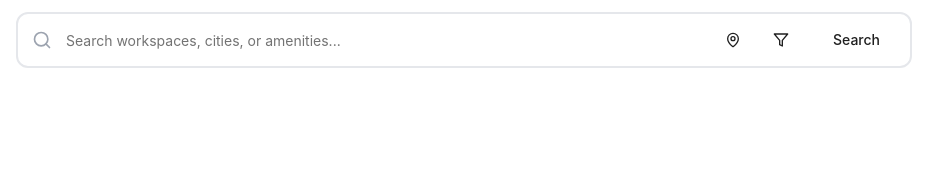
Test case: SearchBar Component › Suggestions › should handle suggestion click
Type "tech" into the field at (464, 40), box [16,12,912,68]
Wait 300 ms
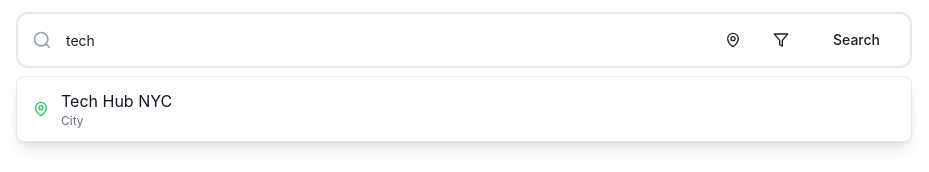
Now the text "Tech Hub NYC" is shown
Click the text "Tech Hub NYC" at (117, 101), box [61,91,172,111]
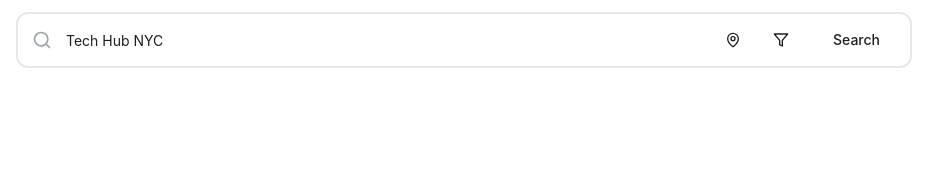
Now the field showing "Tech Hub NYC" is shown, box [16,12,912,68]
